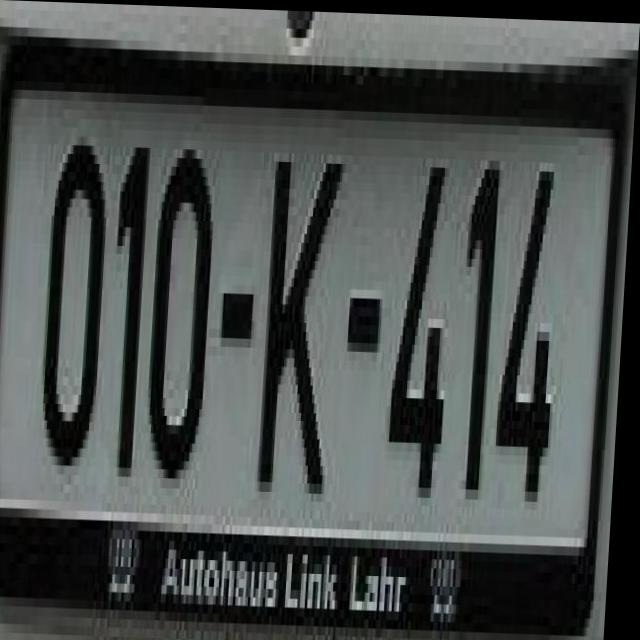0: (144, 138, 222, 486), (43, 126, 116, 475)
1: (102, 111, 159, 467), (454, 138, 508, 504)
4: (493, 148, 577, 515), (384, 136, 463, 503)
K: (253, 132, 347, 499)
